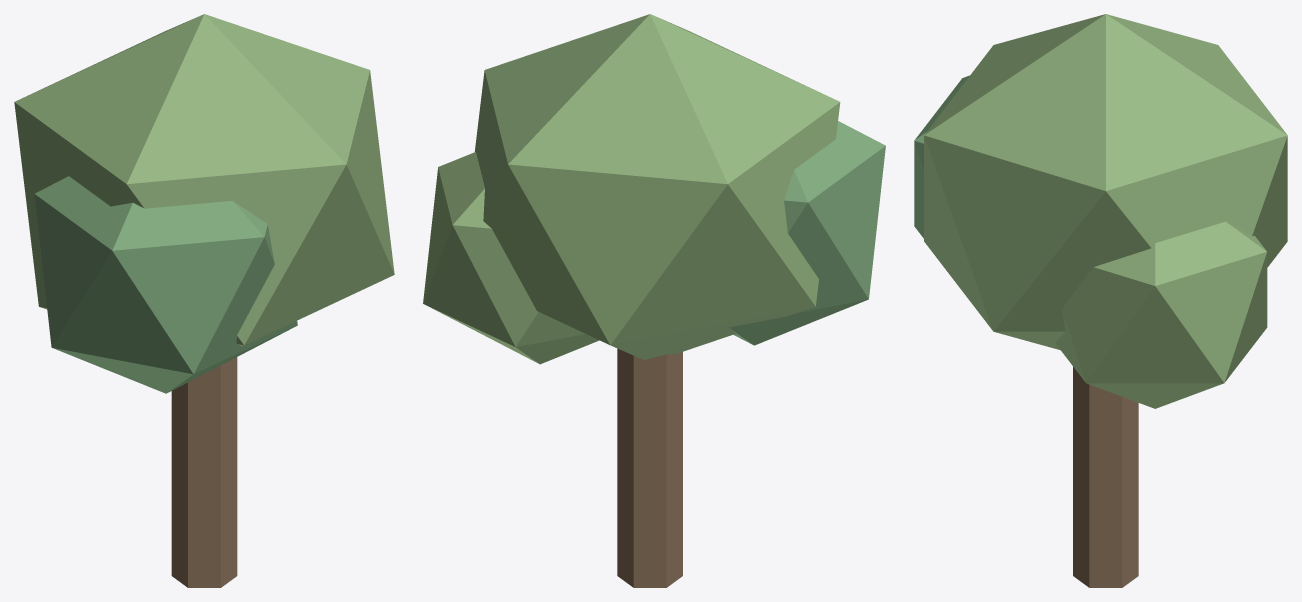
File: Agac_Yuvarlak.glb
3 views of the same model, side by side, from view 1: azimuth 30°, elevation 25°; view 2: azimuth 150°, elevation 25°; view 3: azimuth 270°, elevation 25° (orthographic).
Parts seen in each view (by area): view 1: Agac_Yuvarlak; view 2: Agac_Yuvarlak; view 3: Agac_Yuvarlak.
Part boxes in pixels (x1=…): Agac_Yuvarlak: x1=14, y1=14, x2=394, y2=587; Agac_Yuvarlak: x1=423, y1=14, x2=885, y2=587; Agac_Yuvarlak: x1=914, y1=14, x2=1287, y2=587.
Bounding box in the file's own units: 2.62 × 3.77 × 2.27.
